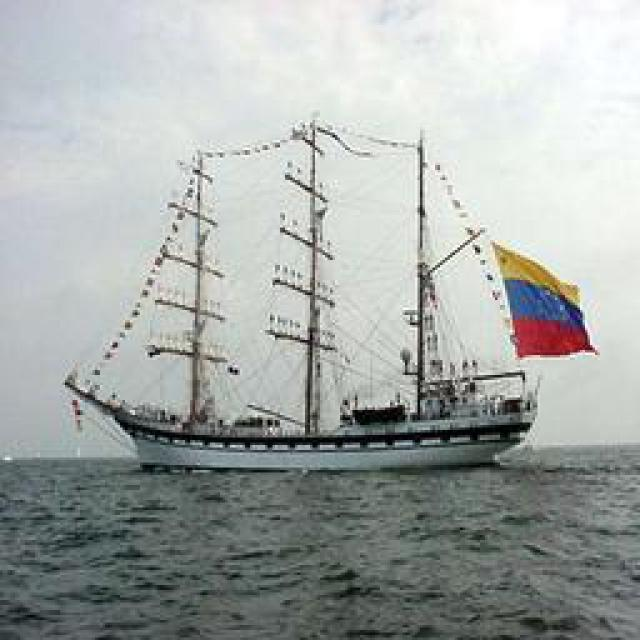Ship: (70, 105, 593, 475)
